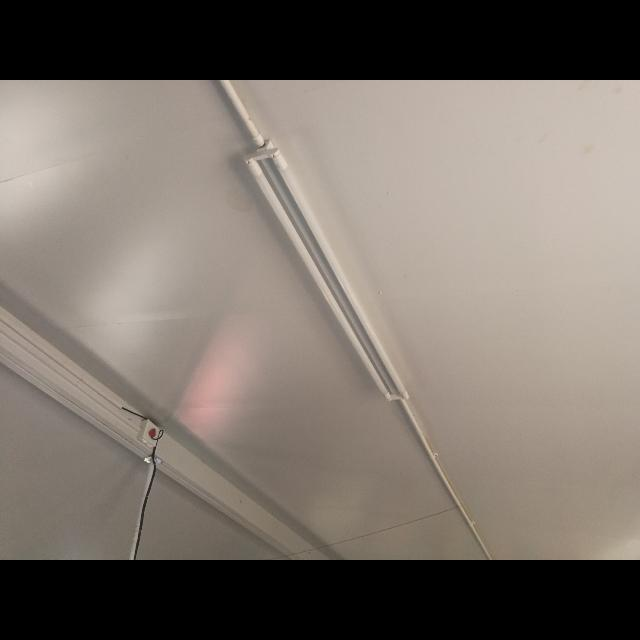Straight-Tube-Fluorescent-Lamp: (235, 138, 420, 416)
